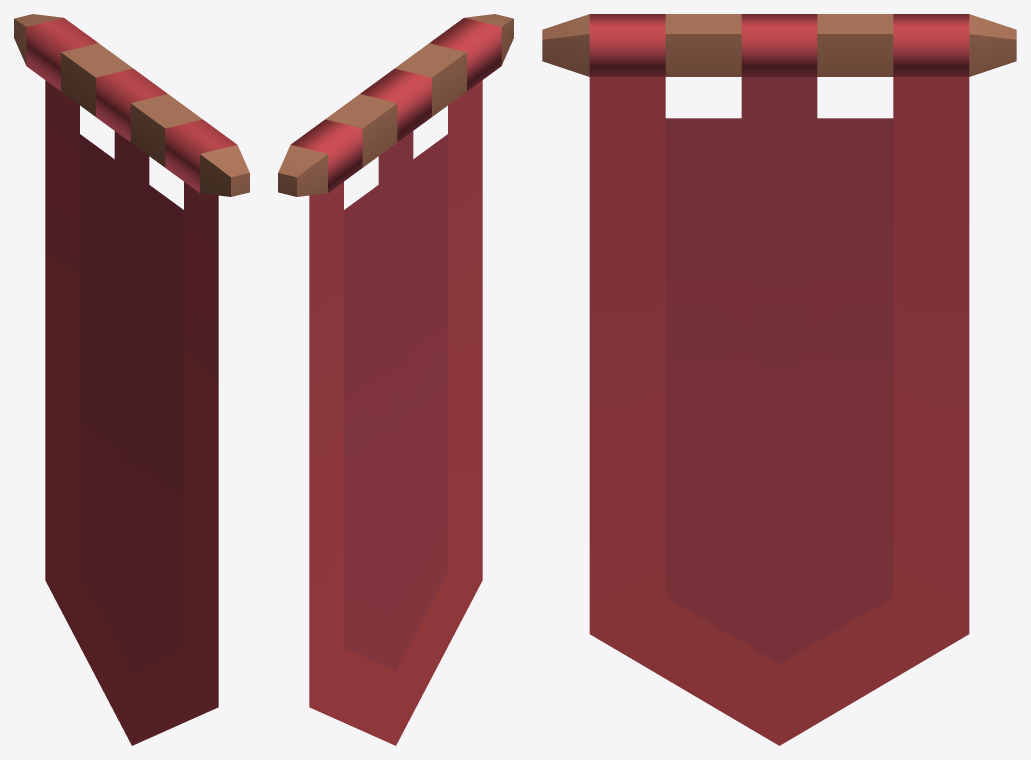
File: T_banner-red.glb
The picture shows the model from 3 angles, left to right: view 1: azimuth 30°, elevation 25°; view 2: azimuth 150°, elevation 25°; view 3: azimuth 270°, elevation 25°; orthographic projection. The views are drawn at different scales.
Parts seen in each view (by area): view 1: banner-red; view 2: banner-red; view 3: banner-red.
Boxes of the visible parts, x1,y1,x2,y2 form: banner-red: (14, 14, 249, 745); banner-red: (278, 14, 513, 745); banner-red: (542, 14, 1016, 745).
Bounding box in the file's own units: 0.05 × 0.8394 × 0.5.
